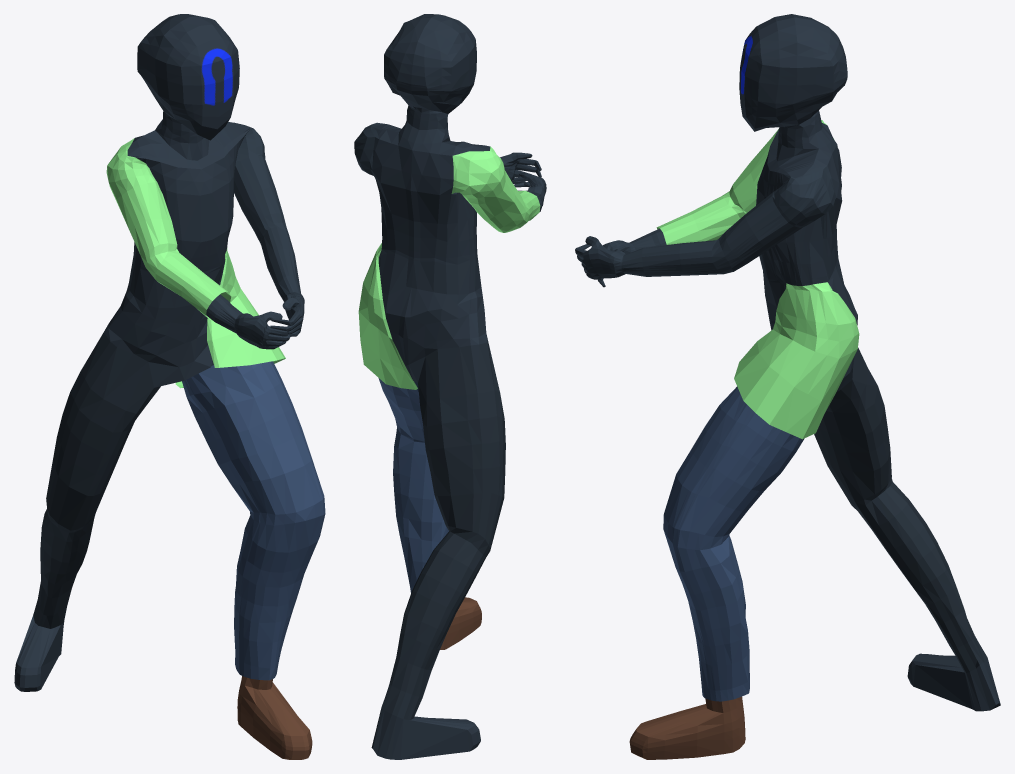
File: Mar_Die_000002.obj
3 views of the same model, side by side, from view 1: azimuth 30°, elevation 25°; view 2: azimuth 150°, elevation 25°; view 3: azimuth 270°, elevation 25° (orthographic). The views are drawn at different scales.
Parts seen in each view (by area): view 1: Cube.000_Cube.001; view 2: Cube.000_Cube.001; view 3: Cube.000_Cube.001.
Boxes of the visible parts, left/top/right/bottom form: Cube.000_Cube.001: left=14, top=14, right=325, bottom=759; Cube.000_Cube.001: left=354, top=14, right=546, bottom=759; Cube.000_Cube.001: left=575, top=14, right=1000, bottom=759.
Size of the model in its own units: 1.1 by 3.74 by 2.01.
